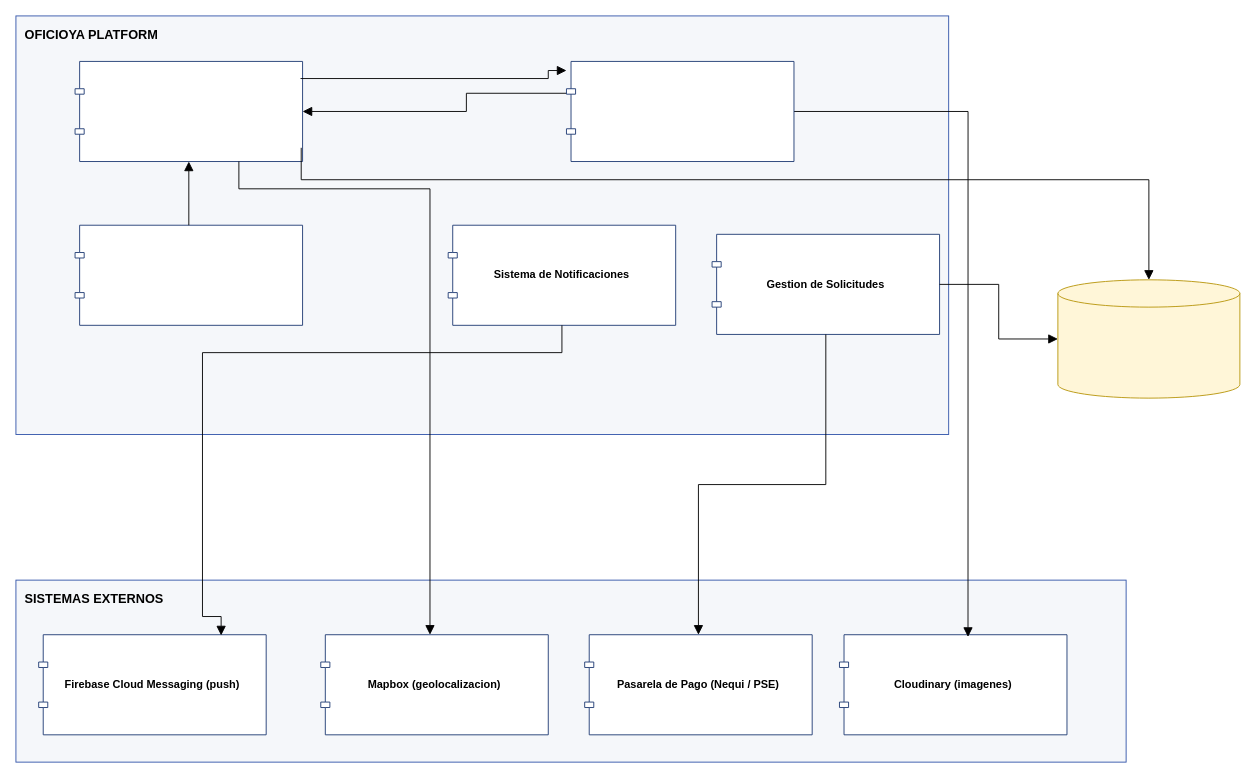
The diagram is 1256 pixels wide and 778 high, and some of its shapes have lost their labels. The shapes that lost their labels are listed below. From the top down, each one's centre as x and y in pixels, then its label:
pixel 188 111: Gestion de Perfiles (Usuario / Trabajador / Contratante)
pixel 680 111: Motor de Busqueda y Matching
pixel 188 274: Sistema de Reputacion y Reseñas
pixel 1148 338: DB oficioya (PostgreSQL)
